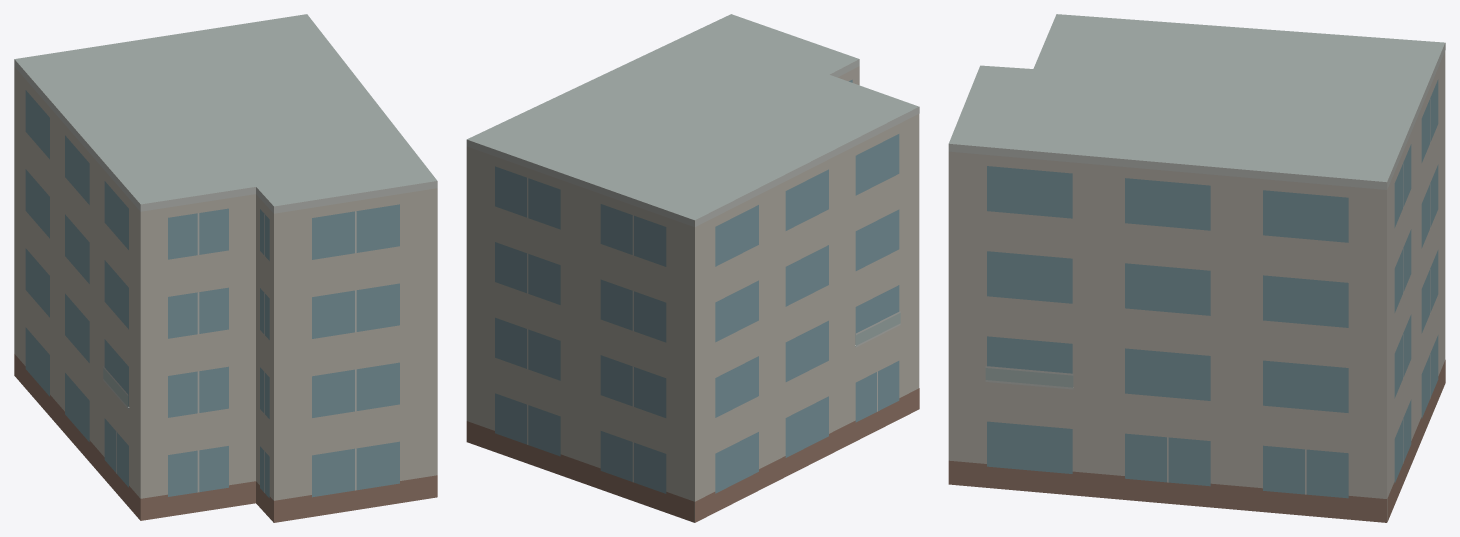
Rendered from survey-upis-32903916.glb.
The picture shows the model from 3 angles, left to right: view 1: azimuth 30°, elevation 25°; view 2: azimuth 150°, elevation 25°; view 3: azimuth 270°, elevation 25°; orthographic projection. The views are drawn at different scales.
Visible parts, largest first — view 1: survey-upis-32903916.tmp; view 2: survey-upis-32903916.tmp; view 3: survey-upis-32903916.tmp.
Part boxes in pixels (<box>): survey-upis-32903916.tmp: <box>14,14,437,522</box>; survey-upis-32903916.tmp: <box>466,14,919,522</box>; survey-upis-32903916.tmp: <box>948,14,1445,522</box>.
Bounding box in the file's own units: 11.28 × 10.65 × 14.08.
